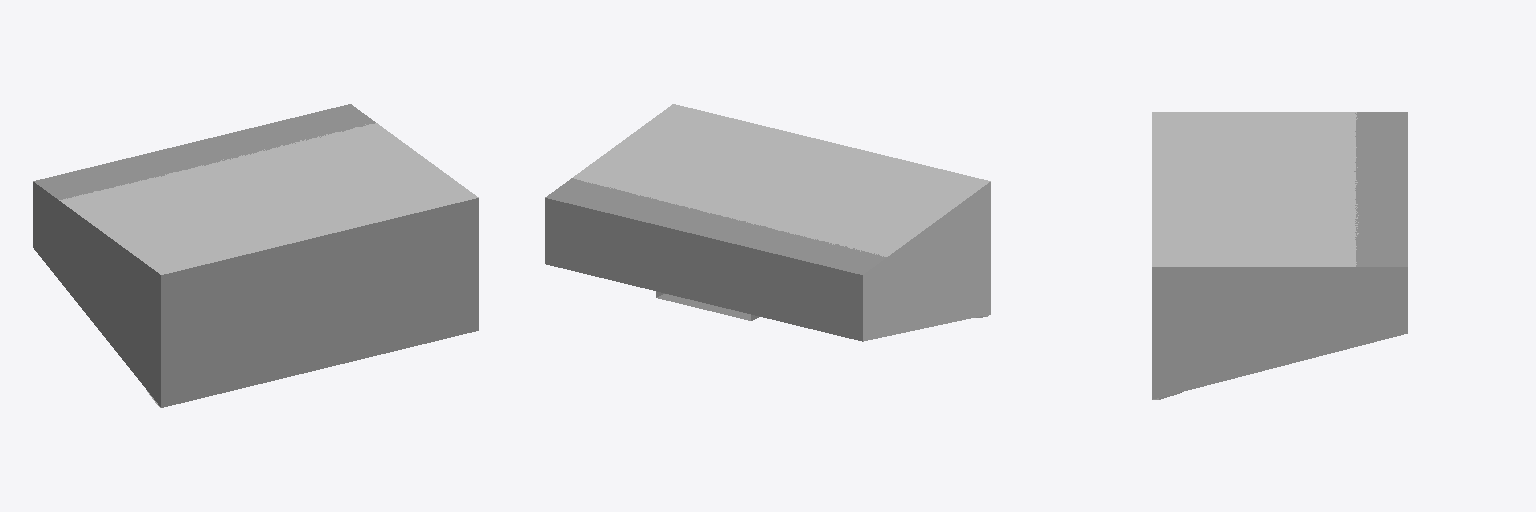
The model's file is aucman_roof_trim_1m.obj.
3 renders of one model, left to right at view 1: azimuth 30°, elevation 25°; view 2: azimuth 150°, elevation 25°; view 3: azimuth 270°, elevation 25°, orthographic.
Parts seen in each view (by area): view 1: g_g, c_c; view 2: c_c, g_g; view 3: c_c, g_g.
Boxes of the visible parts, x1=… form: g_g: x1=33, y1=104, x2=478, y2=407; c_c: x1=33, y1=123, x2=478, y2=406; c_c: x1=545, y1=104, x2=990, y2=341; g_g: x1=545, y1=178, x2=990, y2=320; c_c: x1=1152, y1=112, x2=1407, y2=399; g_g: x1=1153, y1=112, x2=1407, y2=399.
Size of the model in its own units: 100 by 40 by 70.